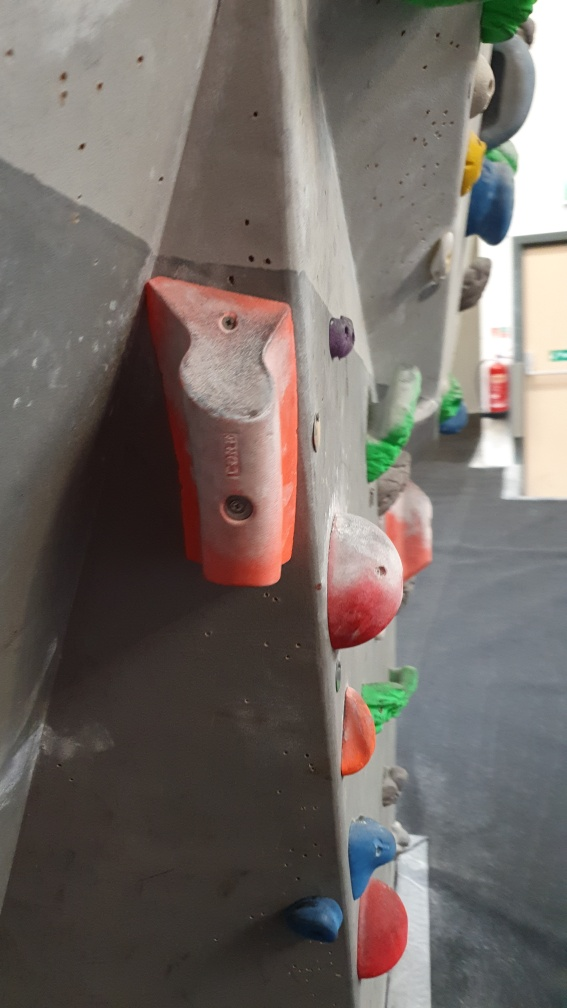Jug: (363, 365, 420, 482)
Pinch: (144, 275, 303, 587)
Sloper: (325, 510, 407, 650), (357, 873, 412, 983)
